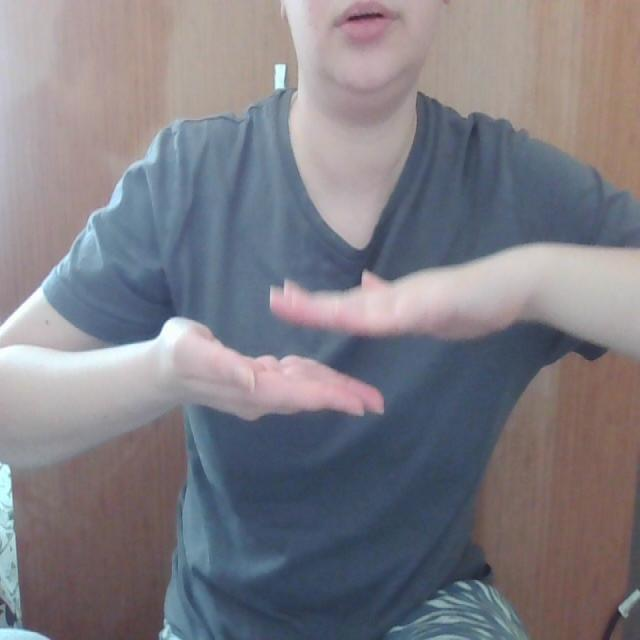Arkadas: (1, 262, 640, 421)
